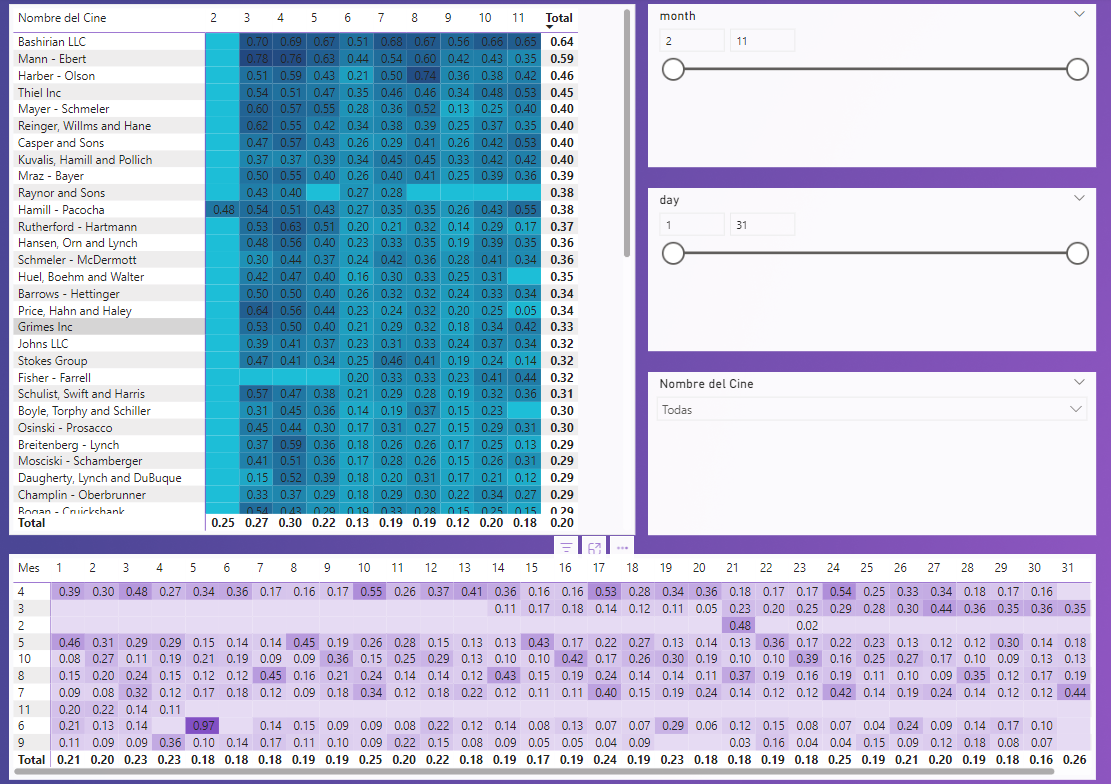

The page's visual inventory and layout, read from the dashboard file:
{"tool":"powerbi","page":{"name":"Análisis de ocupación","canvas":[1280,900],"ordinal":2},"visuals":[{"type":"pivotTable","fields":{"Rows":["cinemas.name"],"Columns":["tickets.month"],"Values":["tickets.Promedio de ocupacion"]},"box":[23.8,7.9,709.6,601.9],"z":0},{"type":"pivotTable","fields":{"Rows":["tickets.month"],"Columns":["tickets.day"],"Values":["tickets.Promedio de ocupacion"]},"box":[23.8,631.4,1232.1,256.2],"z":1000},{"type":"slicer","fields":{"Values":["tickets.month"]},"box":[748.1,7.9,507.8,184.8],"z":2000},{"type":"slicer","fields":{"Values":["tickets.day"]},"box":[748.1,216.5,507.8,184.8],"z":3000},{"type":"slicer","fields":{"Values":["cinemas.name"]},"box":[748.1,425.1,507.8,184.8],"z":4000}]}

Visuals, with their boxes in screenshot pixels (x1, y1, x2, y2), scaled from the page's 1280x900 canvas onto the 1111x784 screenshot:
pivotTable - cinemas.name x tickets.month: bbox=[21, 7, 637, 531]
pivotTable - tickets.month x tickets.day: bbox=[21, 550, 1090, 773]
slicer - tickets.month: bbox=[649, 7, 1090, 168]
slicer - tickets.day: bbox=[649, 189, 1090, 350]
slicer - cinemas.name: bbox=[649, 370, 1090, 531]
